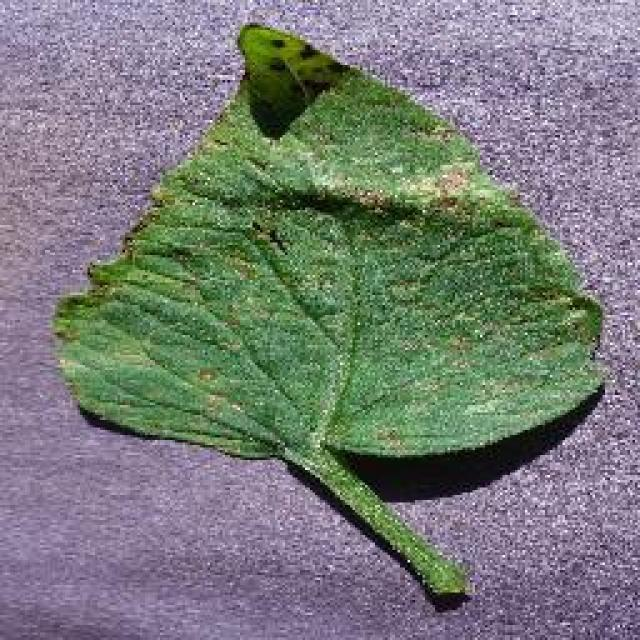Tomato target spot leaf: (59, 25, 606, 465)
